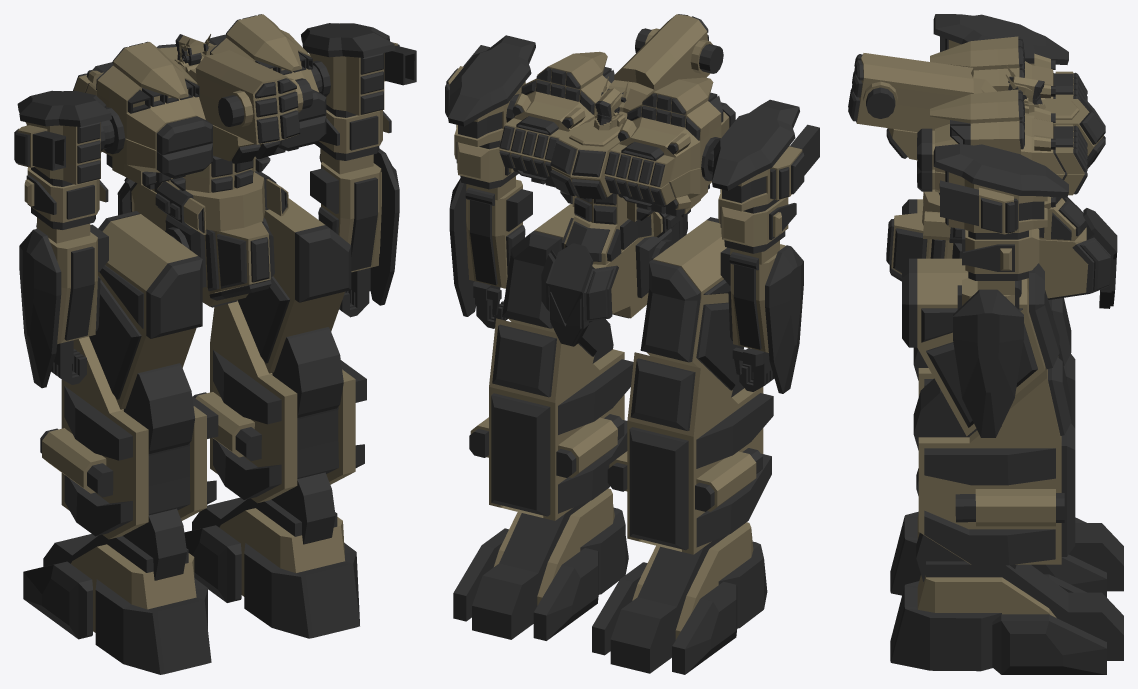
File: TalosSet.fbx
3 views of the same model, side by side, from view 1: azimuth 30°, elevation 25°; view 2: azimuth 150°, elevation 25°; view 3: azimuth 270°, elevation 25° (orthographic). The views are drawn at different scales.
Parts seen in each view (by area): view 1: body, left.lowerleg, right.lowerleg, left.foot, right.foot, left.upperleg, left.upperarm, right.upperarm, left.lowerarm, right.upperleg, right.lowerarm, dih w/ protection (+1 smaller); view 2: body, left.lowerleg, right.lowerleg, left.foot, right.foot, left.upperarm, left.upperleg, right.upperarm, left.lowerarm, dih w/ protection, right.lowerarm, right.upperleg (+1 smaller); view 3: body, right.lowerleg, right.foot, right.upperarm, right.upperleg, right.lowerarm, dih w/ protection, left.foot, left.upperarm, left.lowerleg, Head.
Part boxes in pixels (x1,y1,x2,y2): body: (73, 14, 326, 234); left.lowerleg: (40, 336, 218, 539); right.lowerleg: (193, 300, 366, 503); left.foot: (23, 508, 211, 674); right.foot: (184, 472, 359, 638); left.upperleg: (89, 211, 202, 409); left.upperarm: (14, 90, 114, 243); right.upperarm: (301, 23, 416, 174); left.lowerarm: (19, 224, 108, 388); right.upperleg: (237, 198, 351, 373); right.lowerarm: (310, 148, 399, 317); dih w/ protection: (117, 177, 274, 307); body: (499, 14, 735, 264); left.lowerleg: (607, 352, 773, 554); right.lowerleg: (469, 318, 633, 520); left.foot: (592, 522, 767, 674); right.foot: (453, 488, 628, 640); left.upperarm: (707, 99, 819, 270); left.upperleg: (640, 217, 744, 396); right.upperarm: (445, 35, 535, 205); left.lowerarm: (720, 244, 803, 393); dih w/ protection: (541, 215, 687, 346); right.lowerarm: (449, 178, 532, 328); right.upperleg: (502, 204, 604, 362); body: (848, 36, 1105, 243); right.lowerleg: (913, 357, 1075, 565); right.foot: (890, 533, 1123, 674); right.upperarm: (933, 144, 1068, 299); right.upperleg: (902, 258, 1059, 436); right.lowerarm: (953, 278, 1023, 437); dih w/ protection: (886, 208, 1117, 308); left.foot: (890, 468, 1123, 597); left.upperarm: (933, 14, 1068, 65); left.lowerleg: (913, 298, 1075, 428); Head: (1005, 64, 1045, 113).
Bounding box in the file's own units: 1614 × 2401 × 1074.
